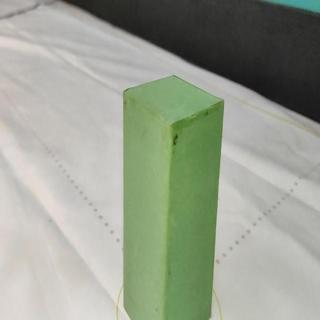greenbox: (121, 74, 225, 320)
